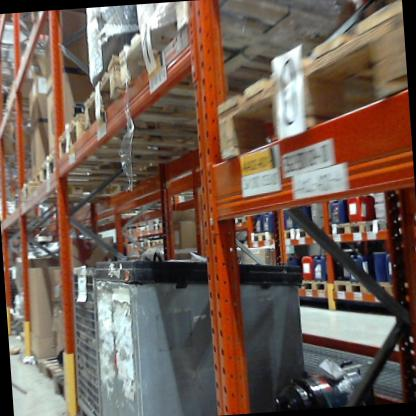pallet: (203, 0, 411, 164), (122, 1, 337, 105), (222, 211, 404, 303), (85, 52, 236, 145), (50, 103, 206, 184), (16, 166, 143, 220), (40, 149, 159, 192), (45, 367, 76, 416), (297, 269, 338, 302), (356, 213, 404, 241), (35, 348, 72, 384), (322, 218, 366, 244), (333, 276, 368, 307), (282, 225, 315, 246), (246, 227, 278, 246), (402, 280, 416, 305)
stillage: (66, 259, 104, 416)
